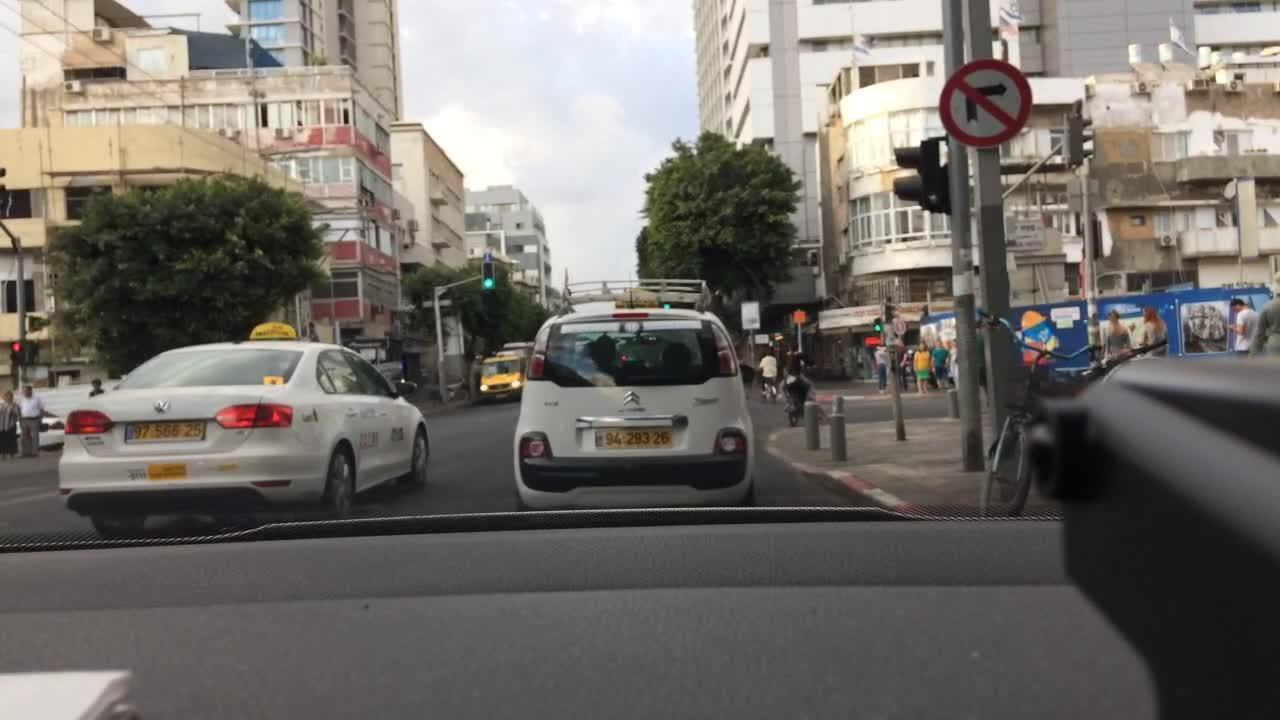Citroen: (621, 389, 643, 409)
Volkswagen: (151, 395, 173, 420)
